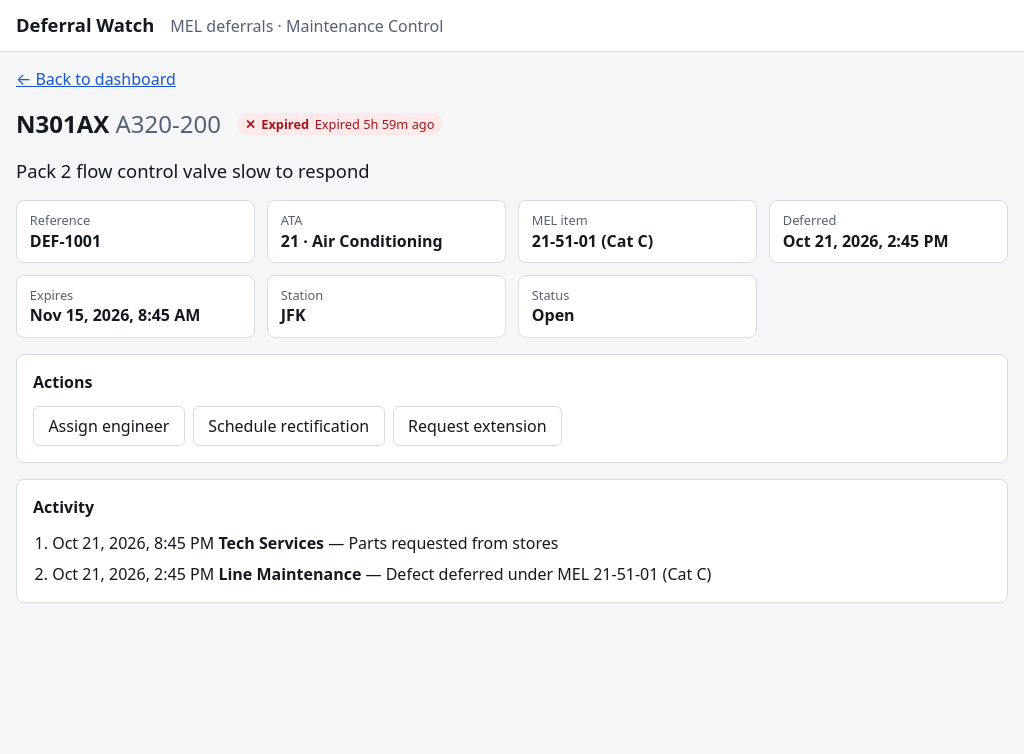
Test: detail + actions › rolls back and shows an error when the action fails
Check: the heading "N301AX A320-200" is shown, box [16,107,221,142]
Step 1. Click the button "Request extension" → (477, 426), box [393,406,562,446]
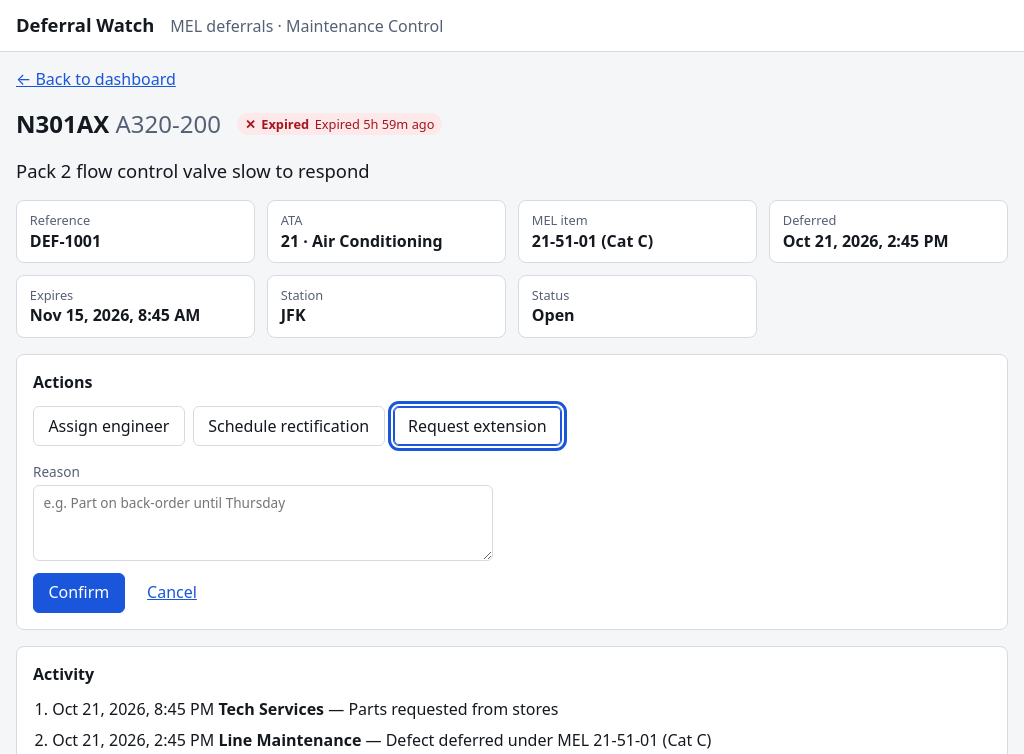
Step 2. Type "Part on back-order" into the text box labelled "Reason" → (263, 523), box [33,485,493,561]
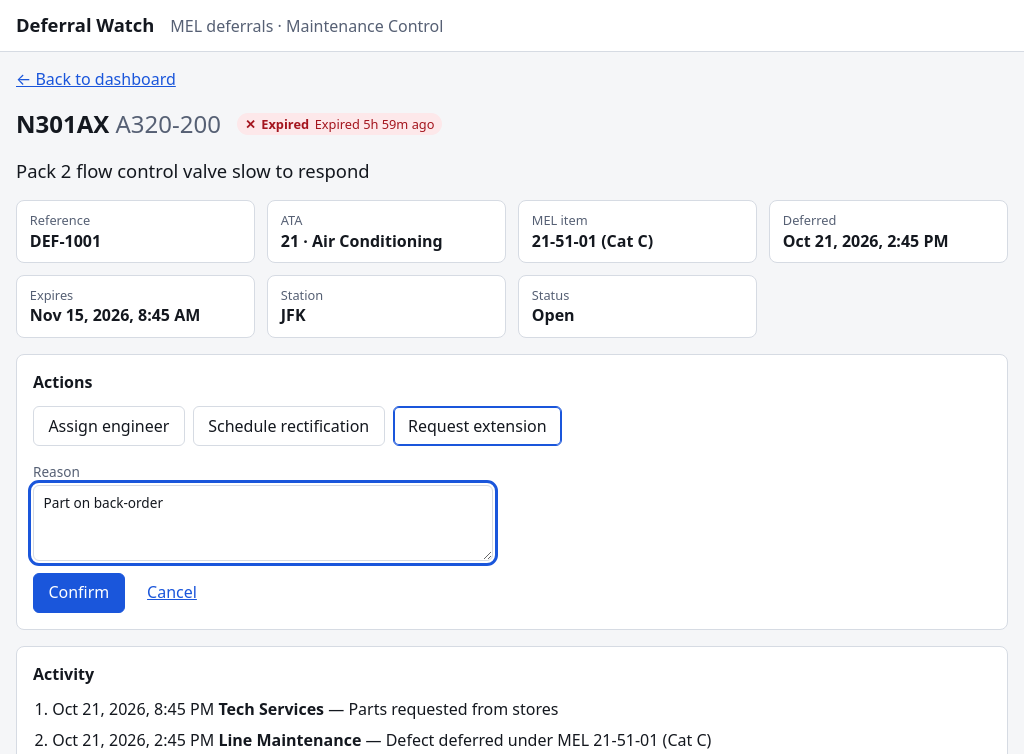
Step 3. Click the button "Confirm" → (79, 593), box [33,573,125,613]
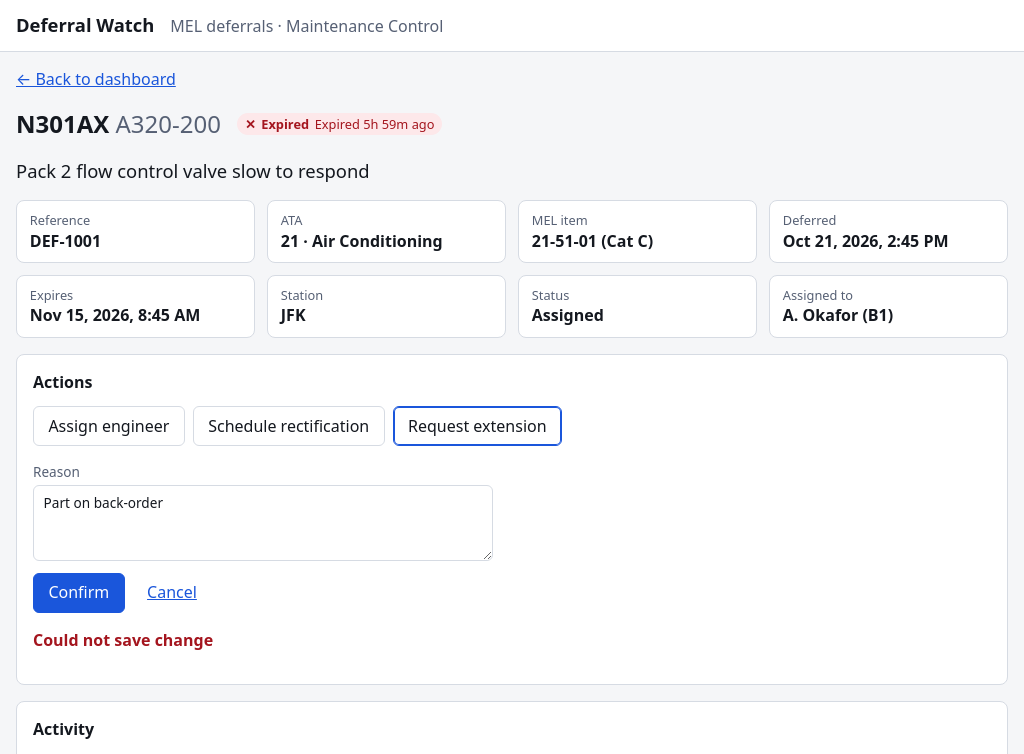
Check: the message reads "Could not save change", box [33,629,213,651]
